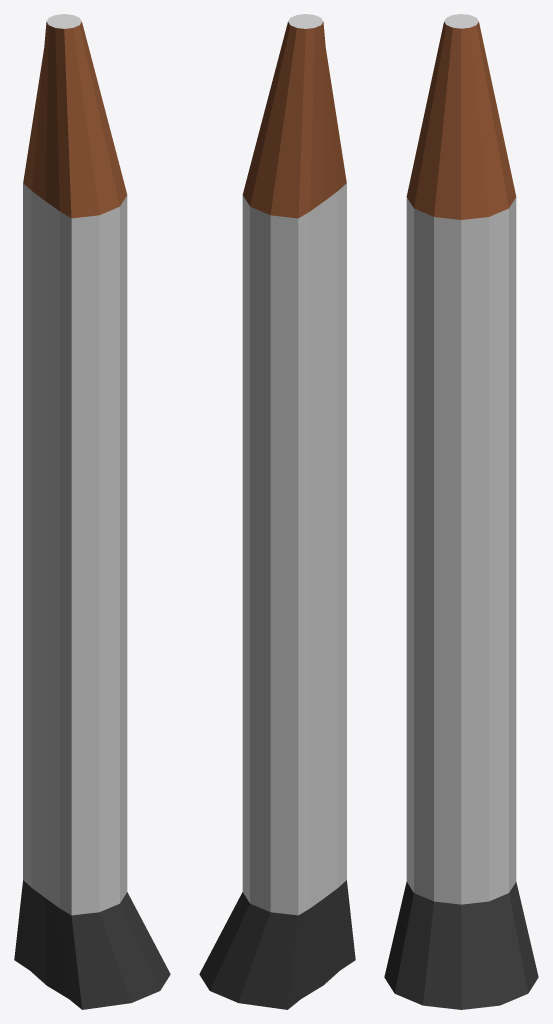
Rendered from Booster08.gltf.
3 renders of one model, left to right at view 1: azimuth 30°, elevation 25°; view 2: azimuth 150°, elevation 25°; view 3: azimuth 270°, elevation 25°, orthographic.
Visible parts, largest first — view 1: Booster08; view 2: Booster08; view 3: Booster08.
Part boxes in pixels (left/top/right/bottom): Booster08: left=14, top=14, right=170, bottom=1009; Booster08: left=199, top=14, right=355, bottom=1009; Booster08: left=384, top=14, right=538, bottom=1009.
Bounding box in the file's own units: 0.2717 × 2.17 × 0.3225.
